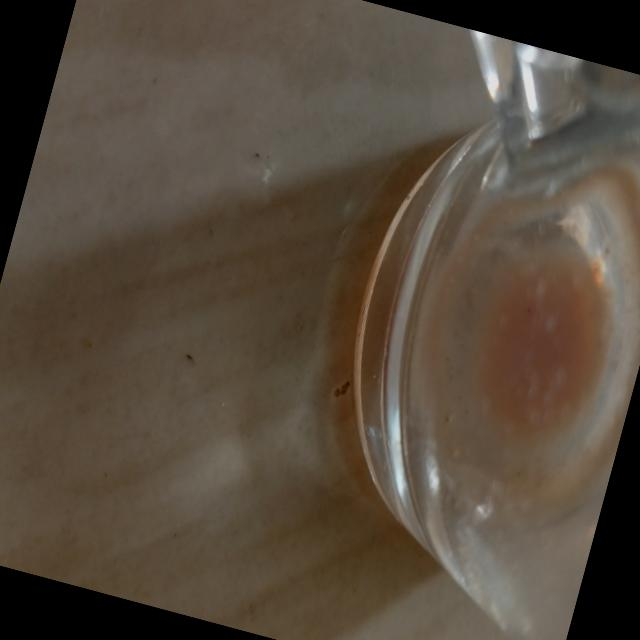glass-VX4N: (216, 5, 640, 640)
